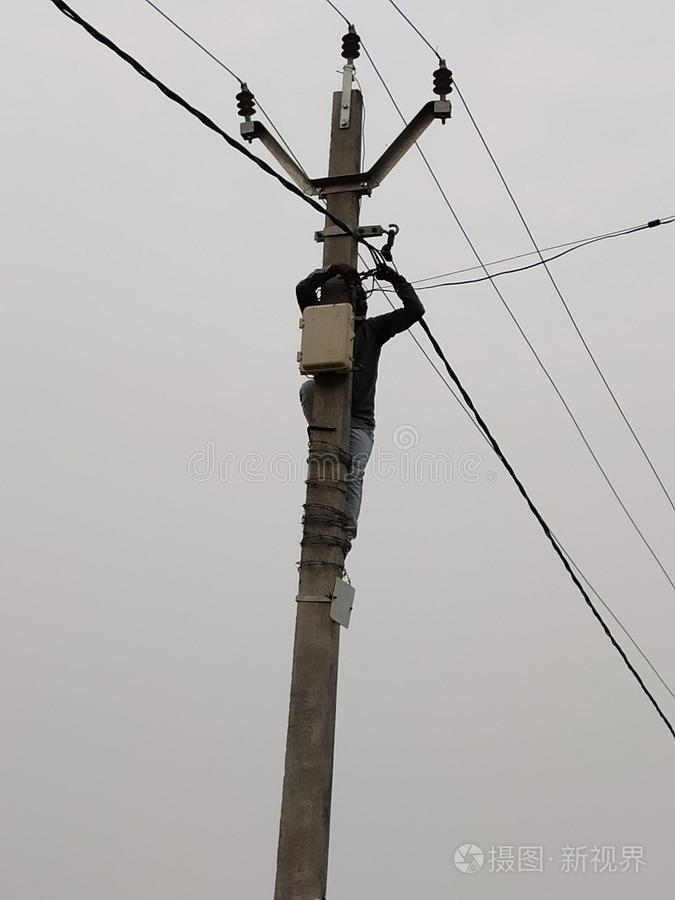insulator: (232, 89, 261, 119), (338, 33, 362, 62), (429, 68, 455, 94)
